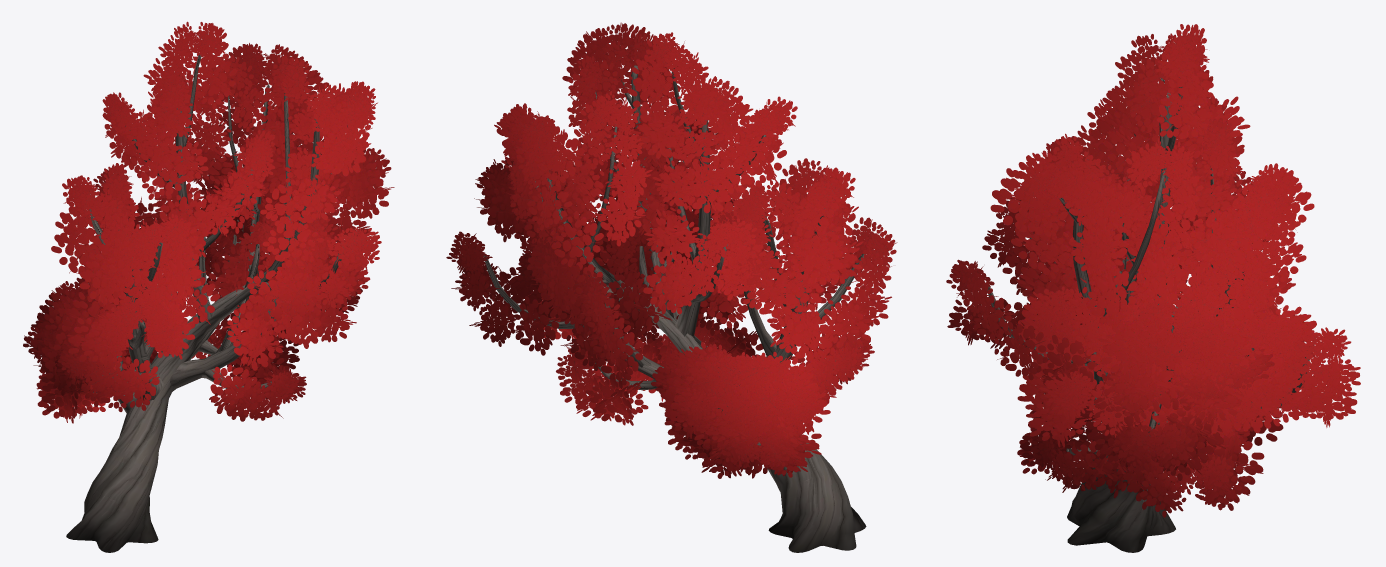
File: TwistedTree_1.gltf
The picture shows the model from 3 angles, left to right: view 1: azimuth 30°, elevation 25°; view 2: azimuth 150°, elevation 25°; view 3: azimuth 270°, elevation 25°; orthographic projection. The views are drawn at different scales.
Parts seen in each view (by area): view 1: TwistedTree_1; view 2: TwistedTree_1; view 3: TwistedTree_1.
Part boxes in pixels (x1,y1,x2,y2): TwistedTree_1: (23, 21, 394, 552); TwistedTree_1: (446, 22, 897, 552); TwistedTree_1: (946, 24, 1360, 552).
Bounding box in the file's own units: 13.52 × 16.73 × 11.55.
Materials: 2 (2 with a texture image).
